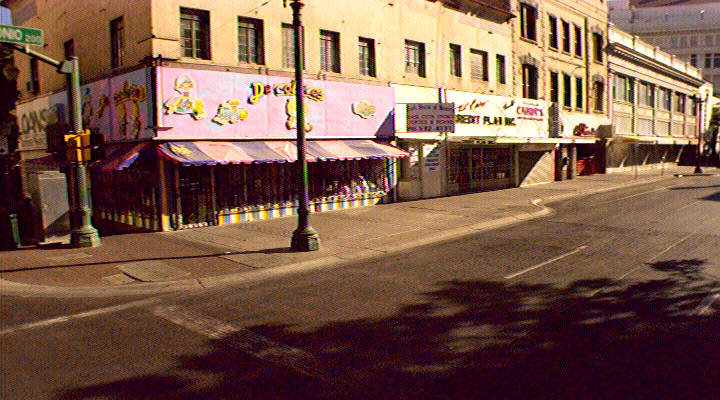Ramp: (1, 244, 261, 307)
